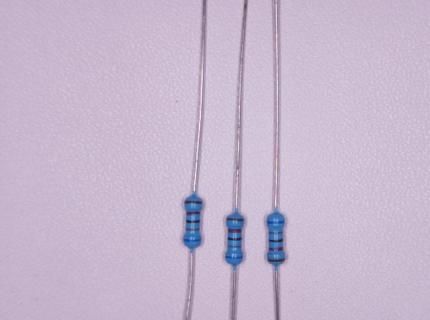Black band: (270, 239, 283, 243), (187, 220, 200, 223), (229, 237, 242, 240)
Blue band: (184, 239, 201, 242), (268, 221, 284, 224), (226, 256, 243, 258)
Brown band: (185, 201, 202, 204), (227, 218, 244, 221), (268, 259, 285, 262)
Grey band: (187, 228, 200, 231), (228, 245, 241, 248), (269, 232, 283, 234)
Red band: (228, 229, 242, 233), (270, 247, 283, 251), (186, 212, 200, 215)
